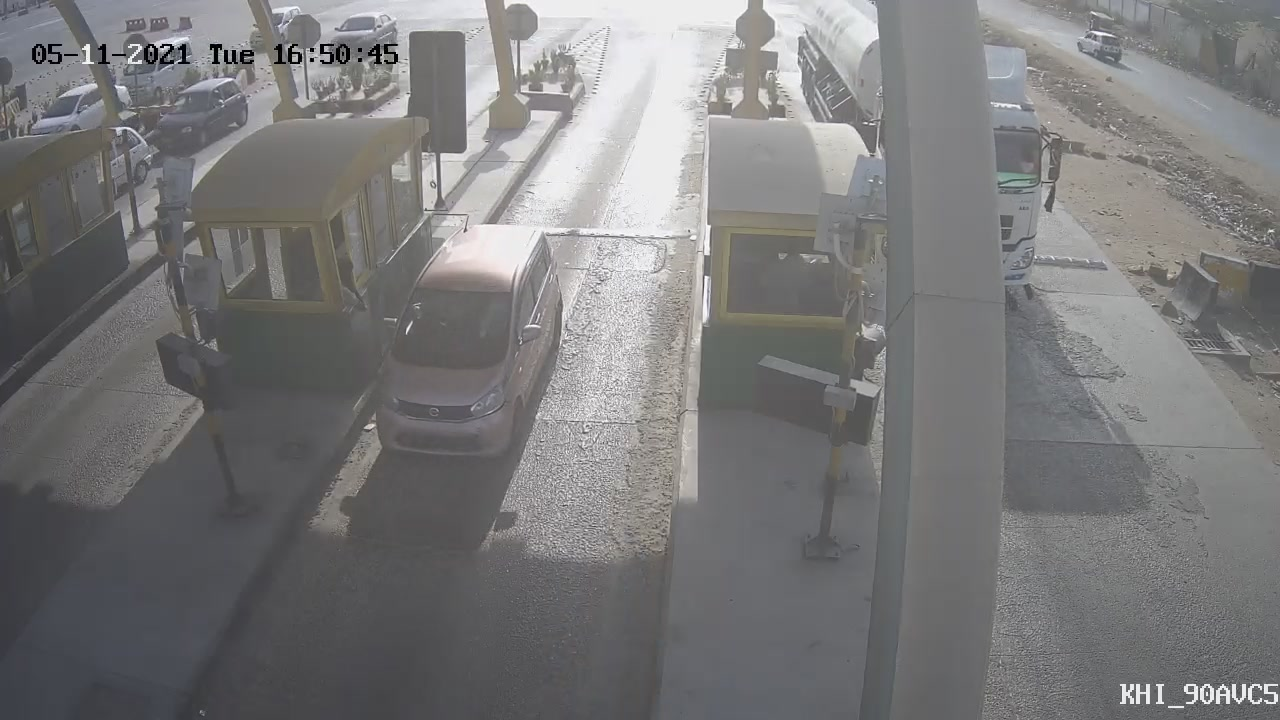F1: (360, 204, 585, 478)
